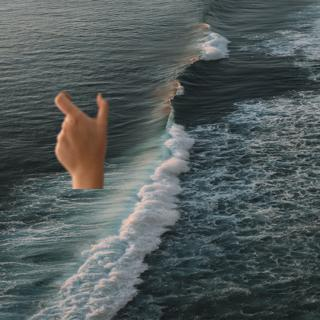Irritated: (45, 87, 114, 185)
